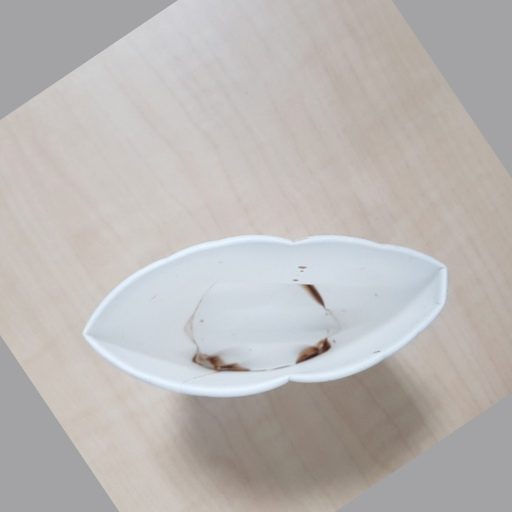Paper_1: (78, 229, 452, 401)
